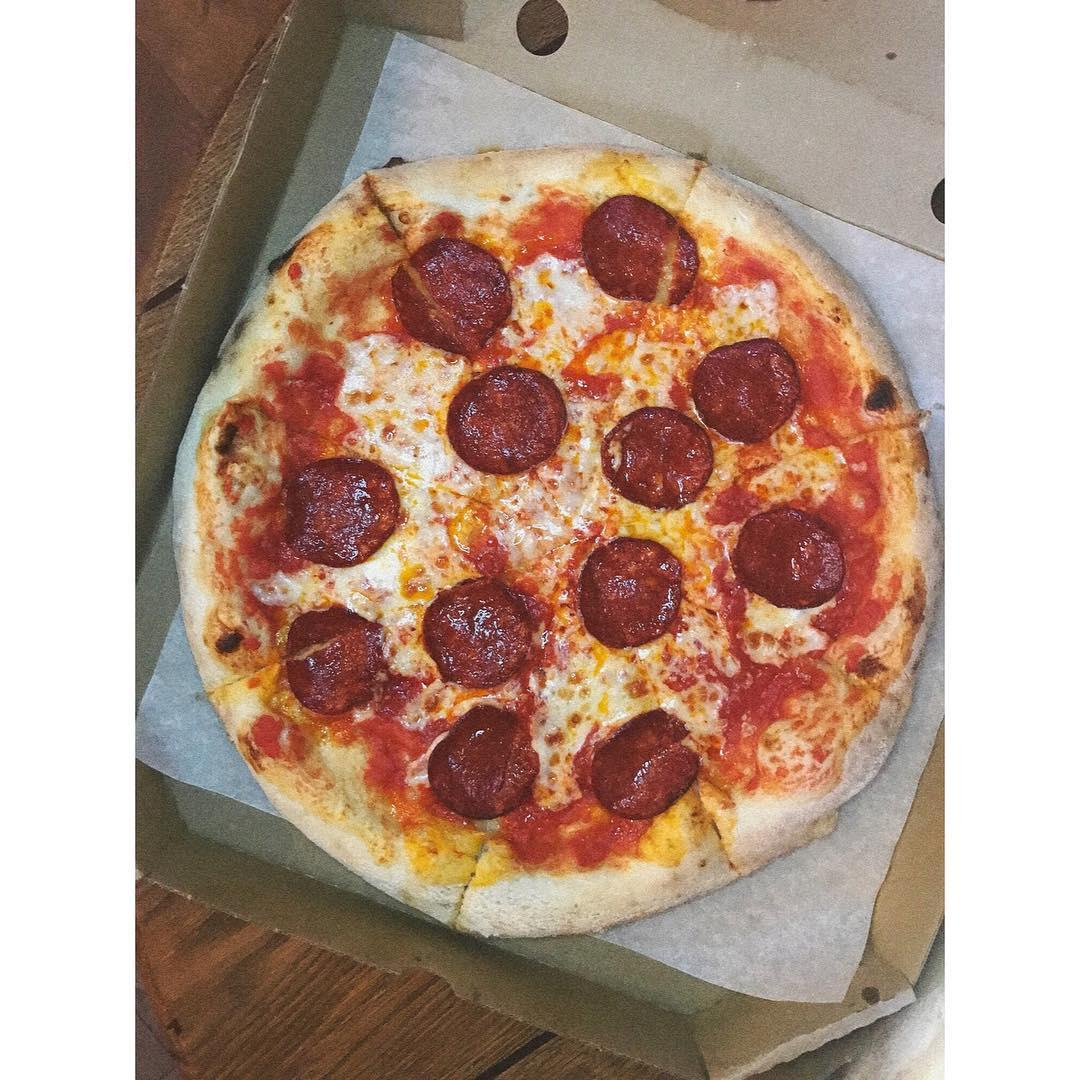Cheese: (407, 481, 568, 573), (353, 349, 450, 466), (699, 607, 825, 684), (545, 649, 685, 717), (517, 273, 613, 357), (609, 317, 680, 404)
Pepperoni: (584, 194, 697, 299), (281, 458, 400, 557), (455, 370, 569, 469), (396, 246, 507, 346), (591, 712, 698, 812), (426, 583, 529, 686), (730, 510, 842, 604), (693, 341, 800, 437), (584, 538, 681, 643), (431, 711, 534, 809), (598, 412, 709, 502), (289, 613, 379, 709)
Pizza: (183, 148, 937, 940)
